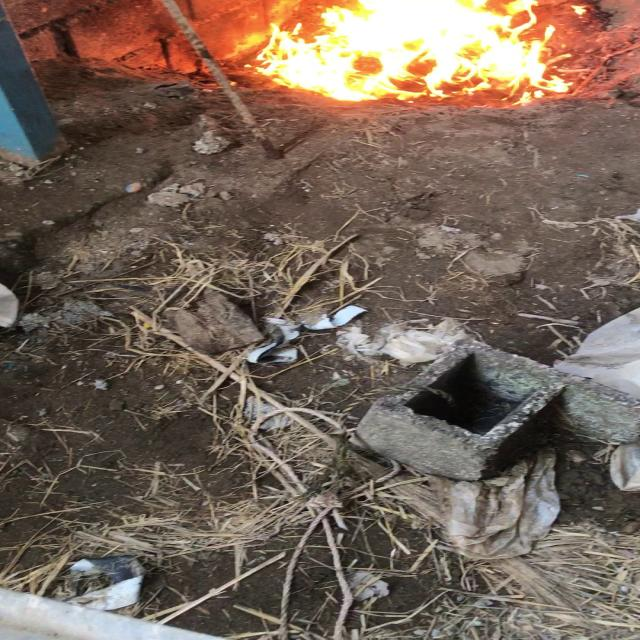fire: (241, 3, 569, 109)
